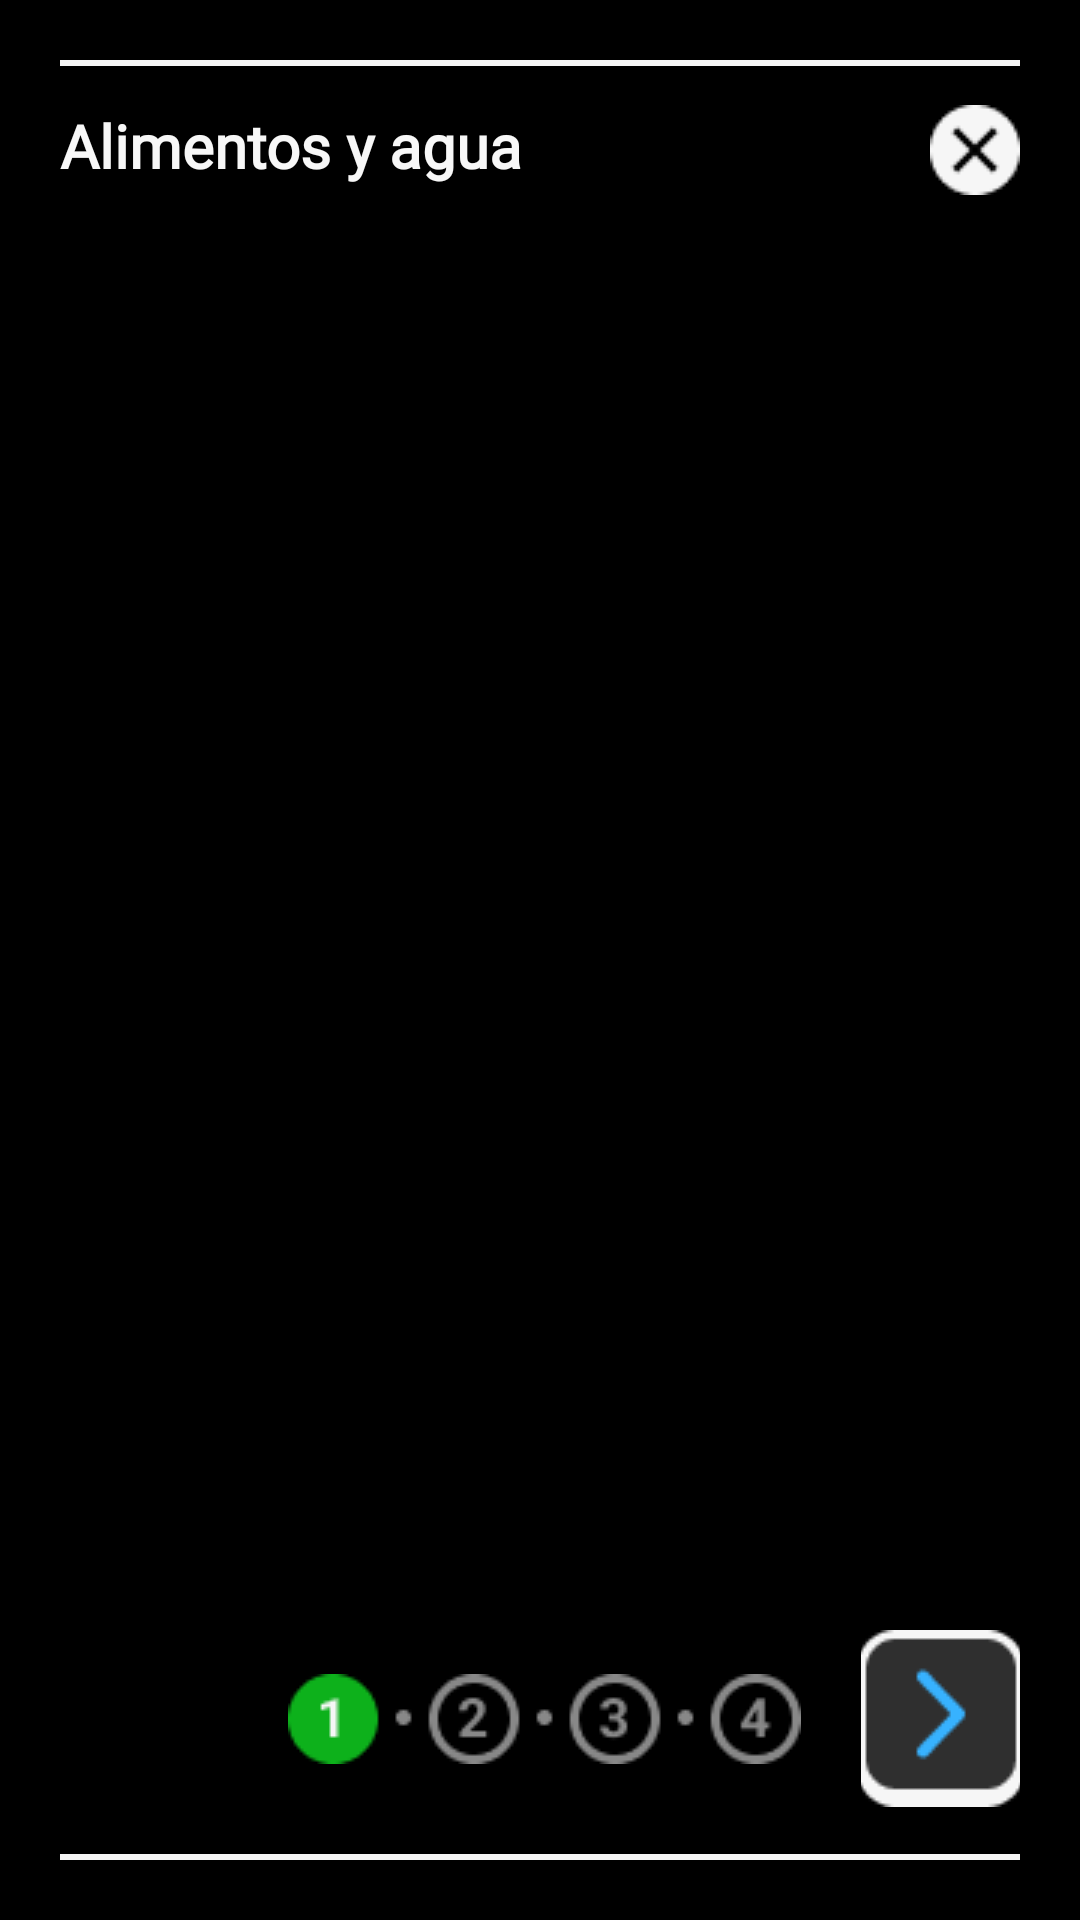

Locate icon controls on the screen. Image size 1080*1920, boxes as region(x1, y1, x2, y2).
closebutton: region(930, 105, 1020, 195)
